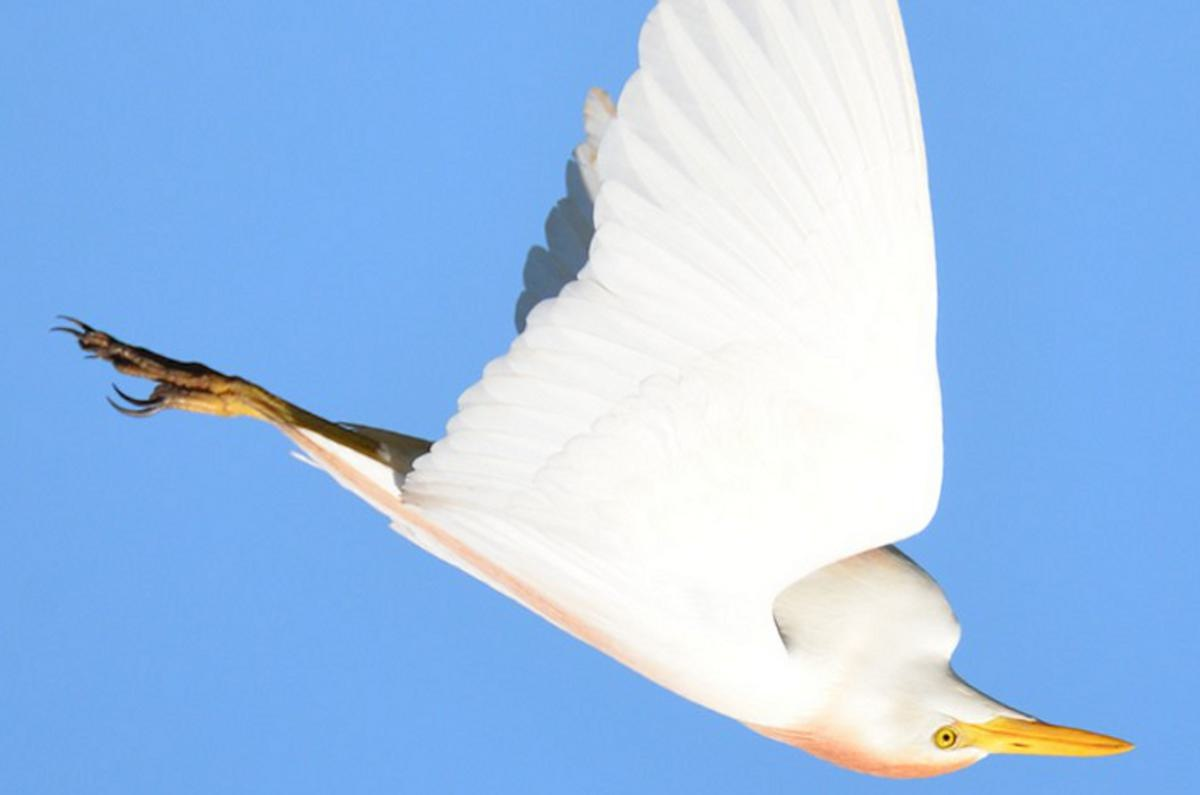egret: (33, 1, 1130, 783)
